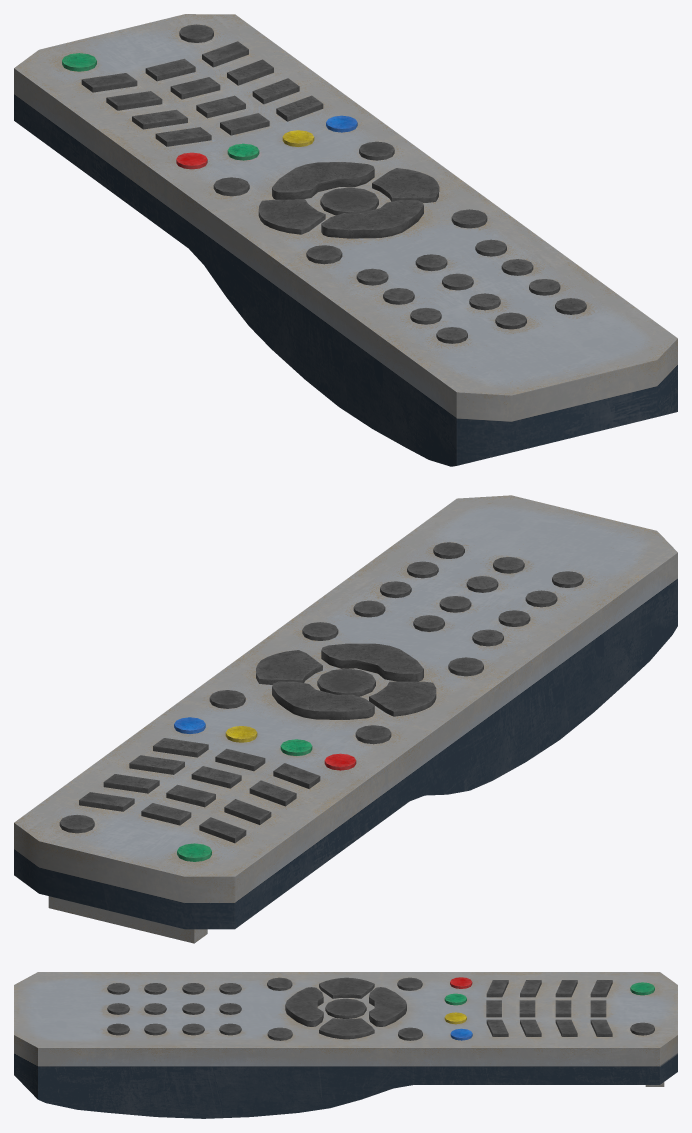
The model's file is remote control_lp.FBX.
3 renders of one model, top to bottom at view 1: azimuth 30°, elevation 25°; view 2: azimuth 150°, elevation 25°; view 3: azimuth 270°, elevation 25°, orthographic. The views are drawn at different scales.
Visible parts, largest first — view 1: remote_lp_final001; view 2: remote_lp_final001; view 3: remote_lp_final001.
Part boxes in pixels (box(x1,y1,x2,y2)): remote_lp_final001: box(14, 14, 677, 466); remote_lp_final001: box(14, 495, 677, 943); remote_lp_final001: box(14, 972, 677, 1118).
Size of the model in its own units: 11.61 by 5.49 by 42.96.
1 material, 1 textured.
